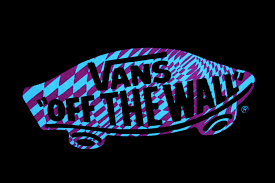vans: (86, 52, 171, 91)
